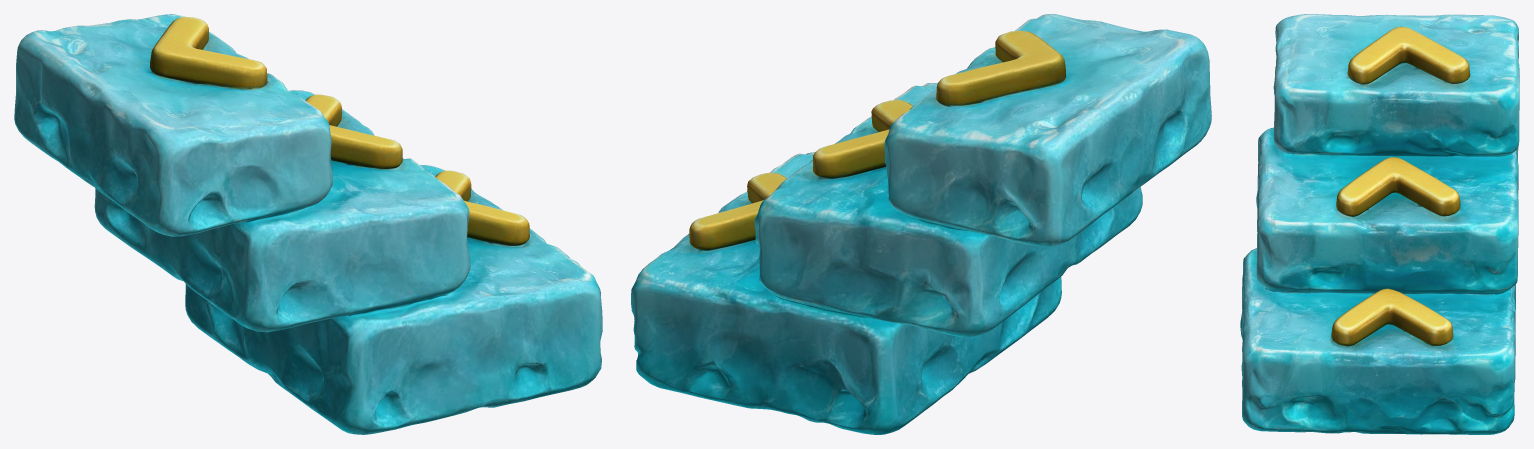
File: ramp-crystal.glb
3 views of the same model, side by side, from view 1: azimuth 30°, elevation 25°; view 2: azimuth 150°, elevation 25°; view 3: azimuth 270°, elevation 25° (orthographic). The views are drawn at different scales.
Visible parts, largest first — view 1: tripo_node_cba7f3f6-cd16-4d5c-ab18-5c6c90769b9c; view 2: tripo_node_cba7f3f6-cd16-4d5c-ab18-5c6c90769b9c; view 3: tripo_node_cba7f3f6-cd16-4d5c-ab18-5c6c90769b9c.
Boxes of the visible parts, box(x1,y1,x2,y2) form: tripo_node_cba7f3f6-cd16-4d5c-ab18-5c6c90769b9c: box(14, 14, 602, 434); tripo_node_cba7f3f6-cd16-4d5c-ab18-5c6c90769b9c: box(631, 14, 1211, 434); tripo_node_cba7f3f6-cd16-4d5c-ab18-5c6c90769b9c: box(1240, 14, 1519, 434).
Bounding box in the file's own units: 0.9796 × 0.7702 × 0.7009.
Materials: 1 (1 with a texture image).
